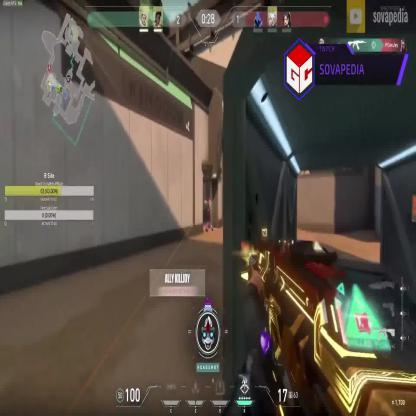enemy: (205, 196, 213, 232)
enemy_head: (208, 198, 212, 204)
